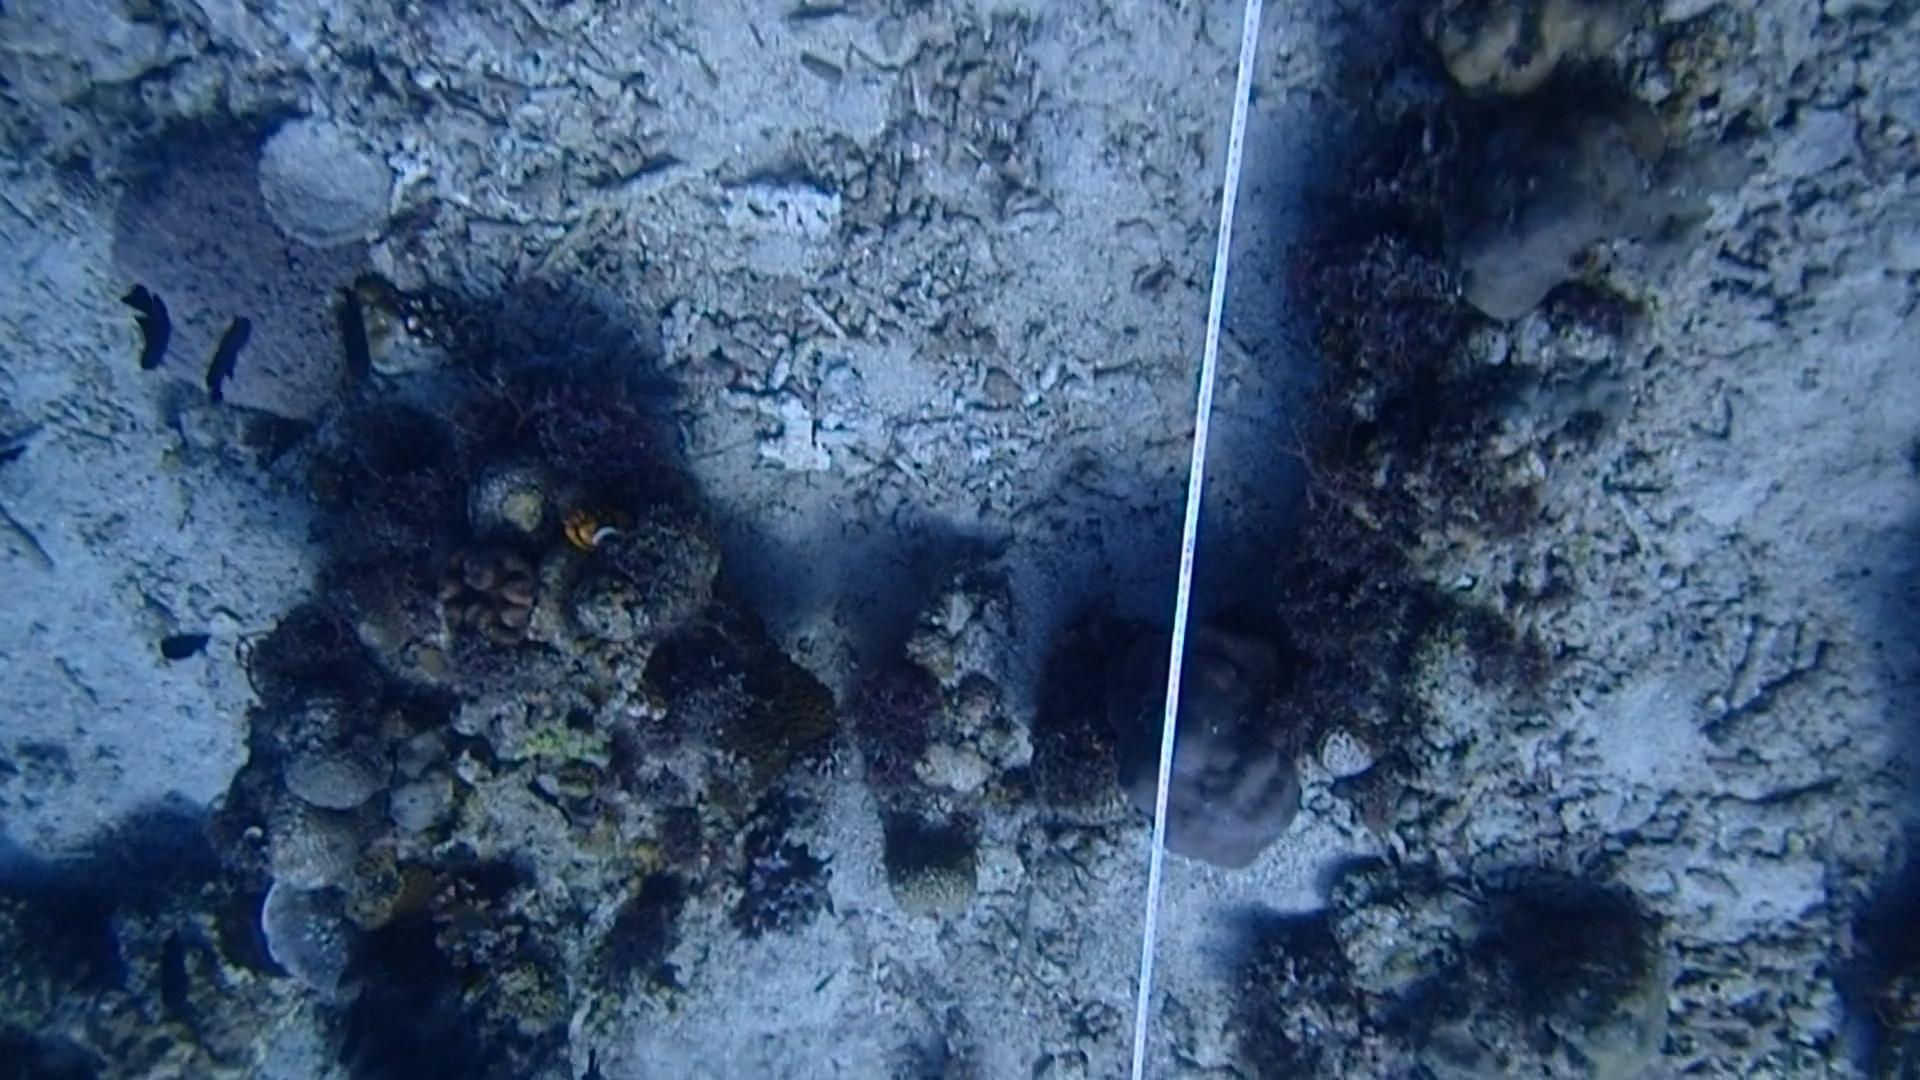Dark Fish: (191, 311, 269, 415), (109, 274, 189, 375), (136, 927, 198, 1034), (326, 294, 390, 396), (154, 617, 216, 675)
Light Fish w Back Stripes: (1808, 832, 1870, 967)
